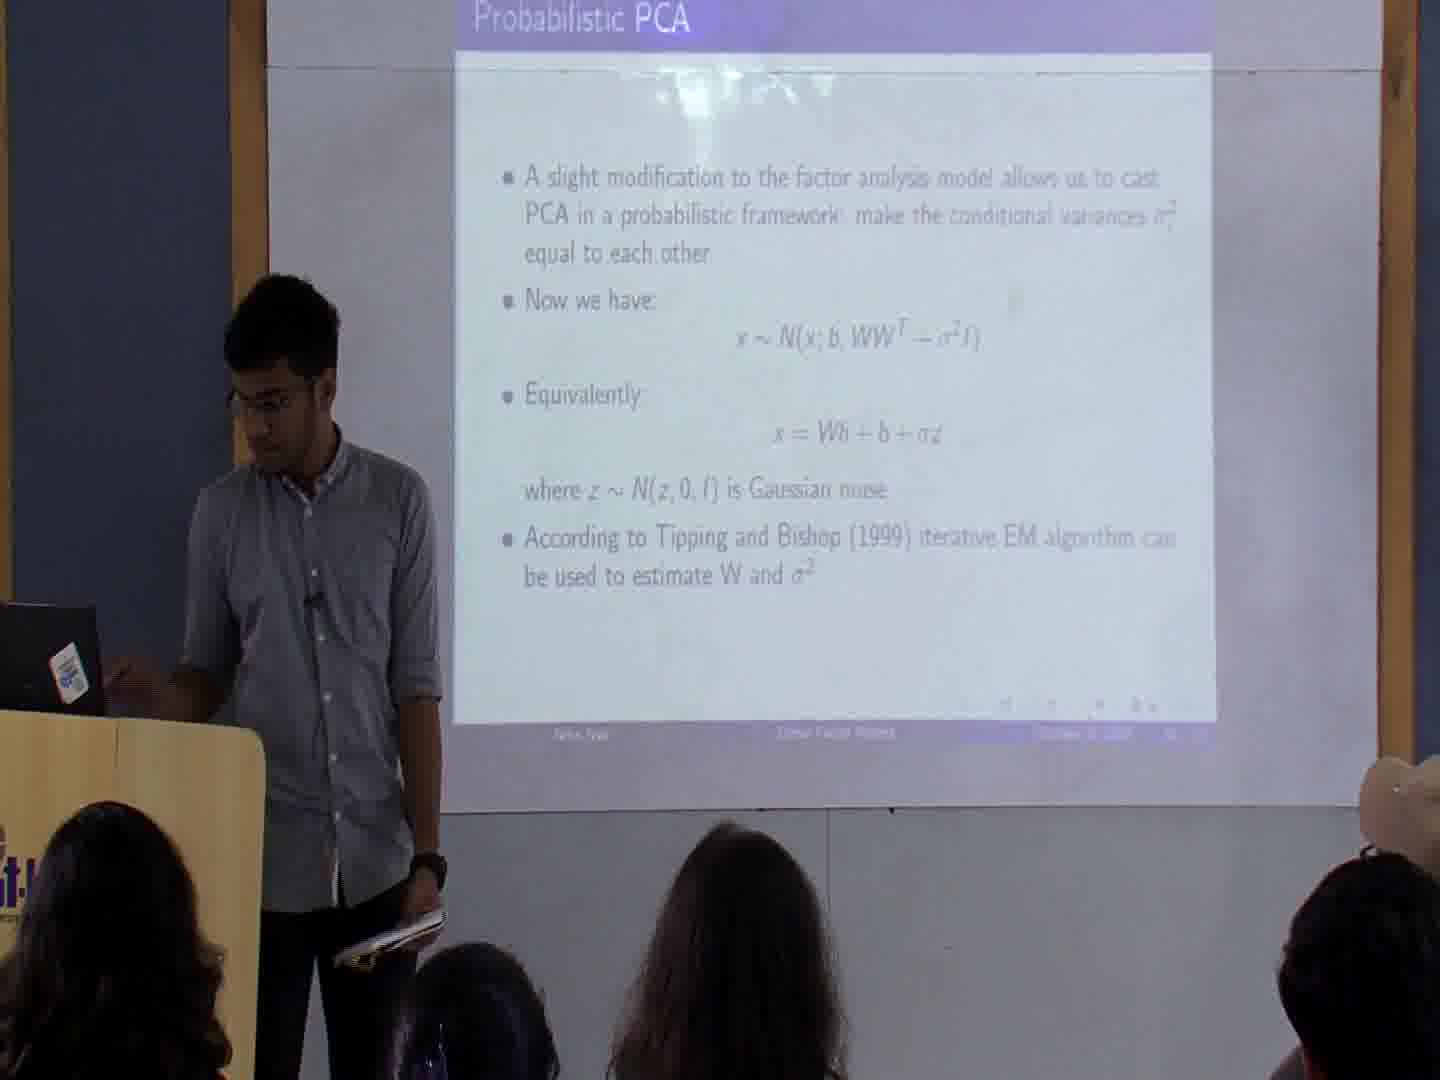eq: (730, 312, 988, 355), (776, 416, 949, 452)
